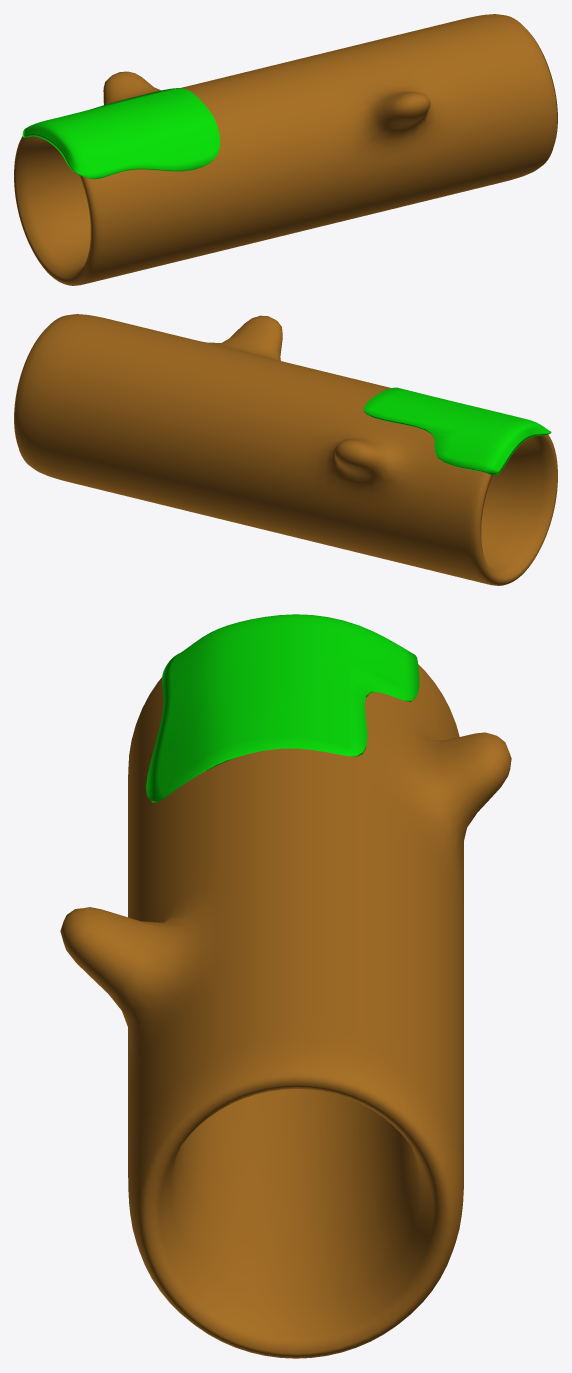
Rendered from 空心树桩.glb.
3 views of the same model, one above another, from view 1: azimuth 30°, elevation 25°; view 2: azimuth 150°, elevation 25°; view 3: azimuth 270°, elevation 25° (orthographic). The views are drawn at different scales.
Parts seen in each view (by area): view 1: 苔藓.001; view 2: 苔藓.001; view 3: 苔藓.001.
Part boxes in pixels (left/top/right/bottom): 苔藓.001: left=14, top=14, right=557, bottom=285; 苔藓.001: left=14, top=314, right=557, bottom=585; 苔藓.001: left=60, top=614, right=511, bottom=1358.
Size of the model in its own units: 7.25 by 2.23 by 2.99.
